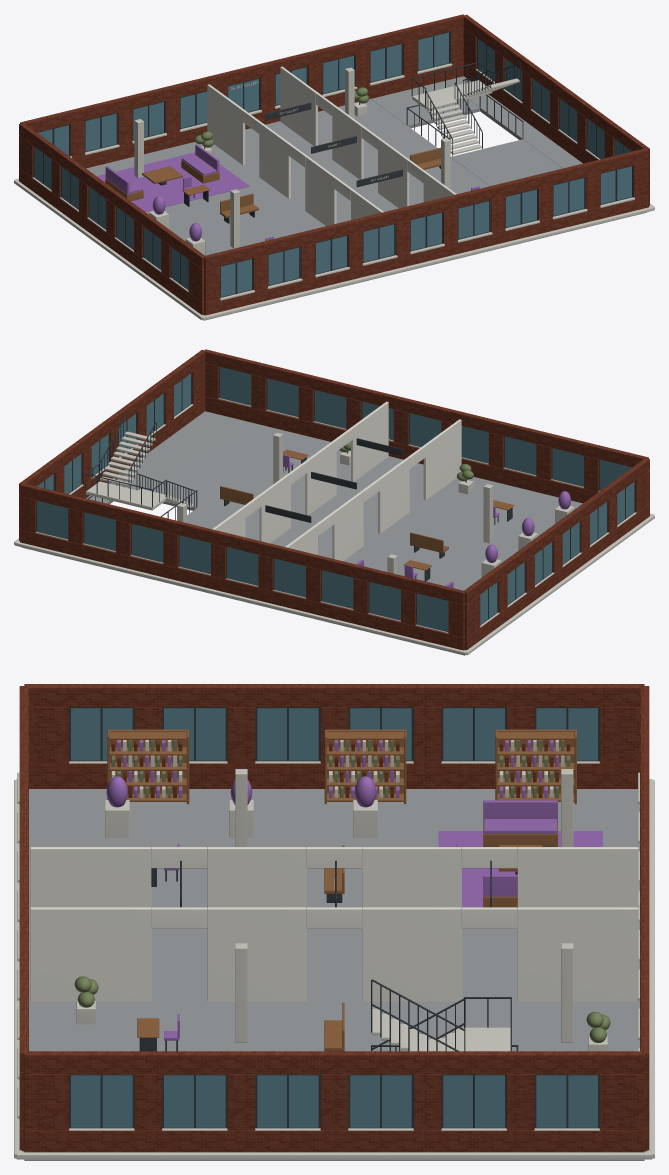
Rendered from SM_LegacyTower_Level05.fbx.
3 views of the same model, one above another, from view 1: azimuth 30°, elevation 25°; view 2: azimuth 150°, elevation 25°; view 3: azimuth 270°, elevation 25° (orthographic). The views are drawn at different scales.
Visible parts, largest first — view 1: SM_LegacyTower_Level05; view 2: SM_LegacyTower_Level05; view 3: SM_LegacyTower_Level05.
Part boxes in pixels (bbox=[...]): SM_LegacyTower_Level05: bbox=[14, 14, 654, 320]; SM_LegacyTower_Level05: bbox=[14, 349, 654, 655]; SM_LegacyTower_Level05: bbox=[14, 684, 654, 1160].
Size of what is drawn, in the model's own units: 2866 by 2066 by 486.
